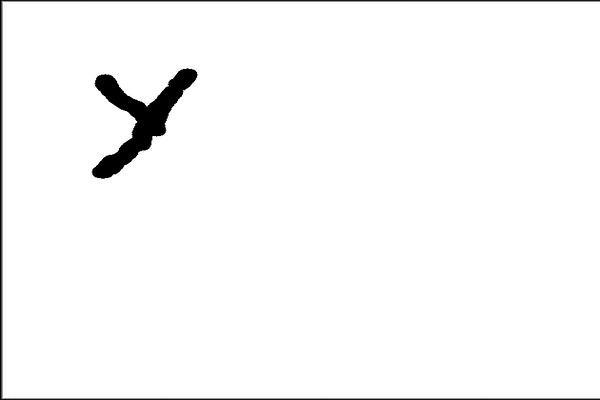Y: (81, 55, 219, 196)
